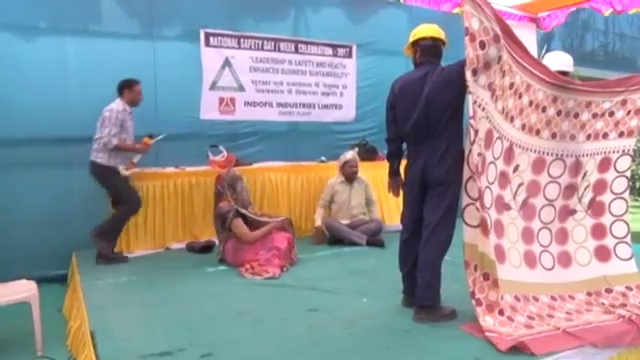helmet: (404, 23, 447, 55), (539, 47, 576, 76)
helmet_off: (118, 78, 143, 109), (214, 169, 241, 195), (339, 150, 359, 181)
helmet_on: (403, 23, 447, 69)
person: (383, 24, 465, 322), (88, 80, 142, 266), (213, 171, 298, 284), (314, 151, 384, 250)
